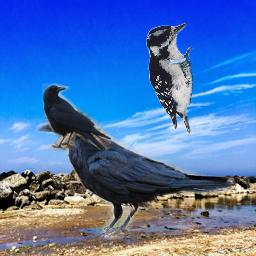Crow: (36, 115, 235, 241), (42, 82, 111, 152)
Woodpecker: (146, 23, 196, 137)
